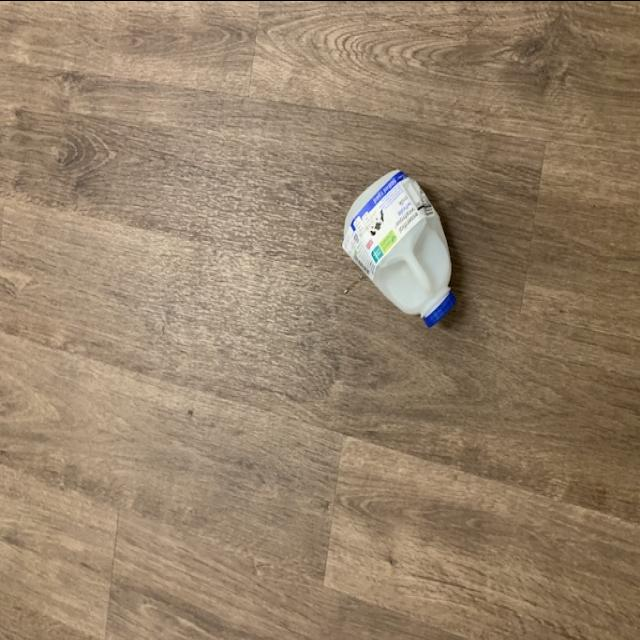litter: (342, 168, 460, 332)
